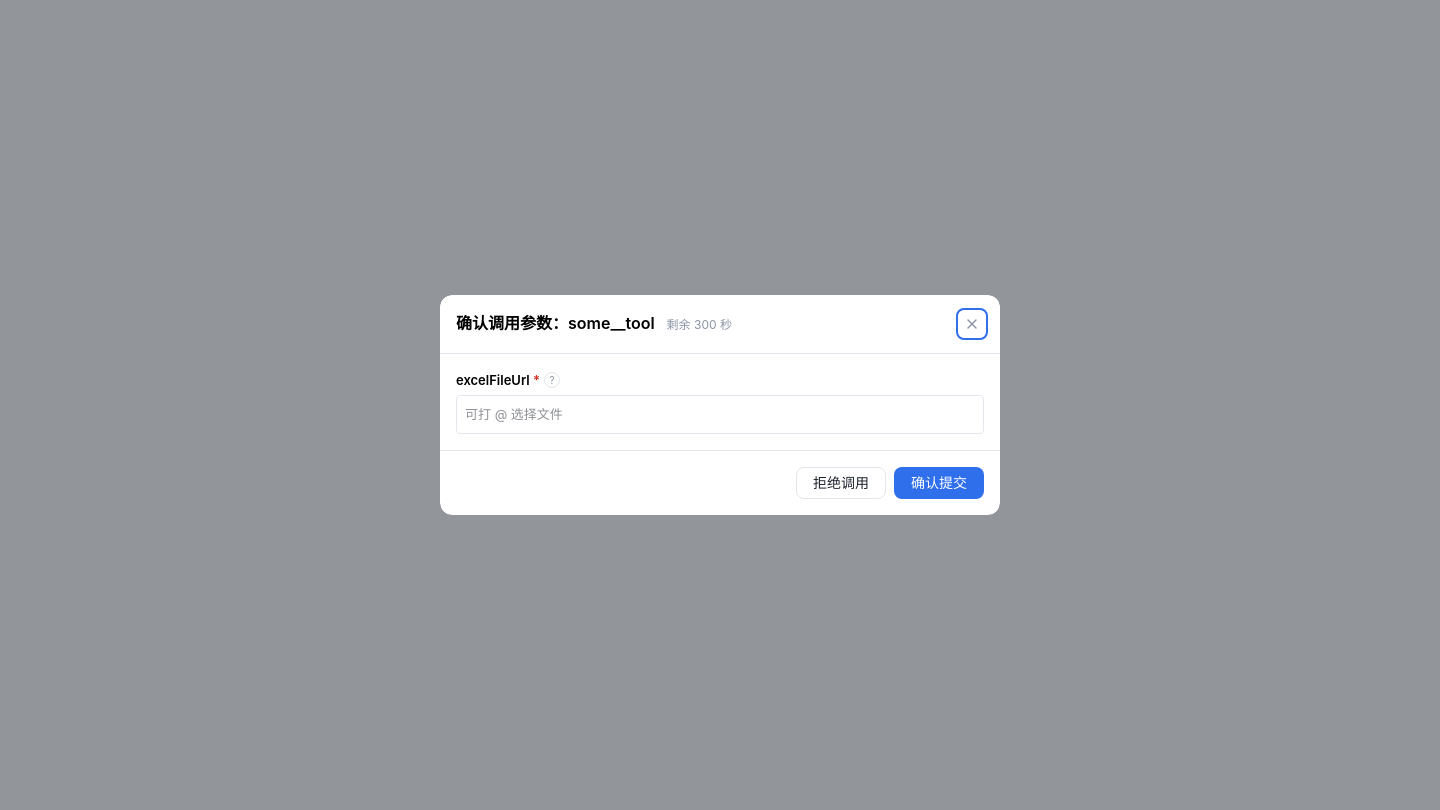
Test case: InteractionDialog —— @ 文件引用与结构化卡片 › 键盘导航：Enter 依次下钻空间/目录/文件并完成插入
Step 1. Type "@" into the field labelled "excelFileUrl" → (720, 414), box left=456, top=395, right=984, bottom=434
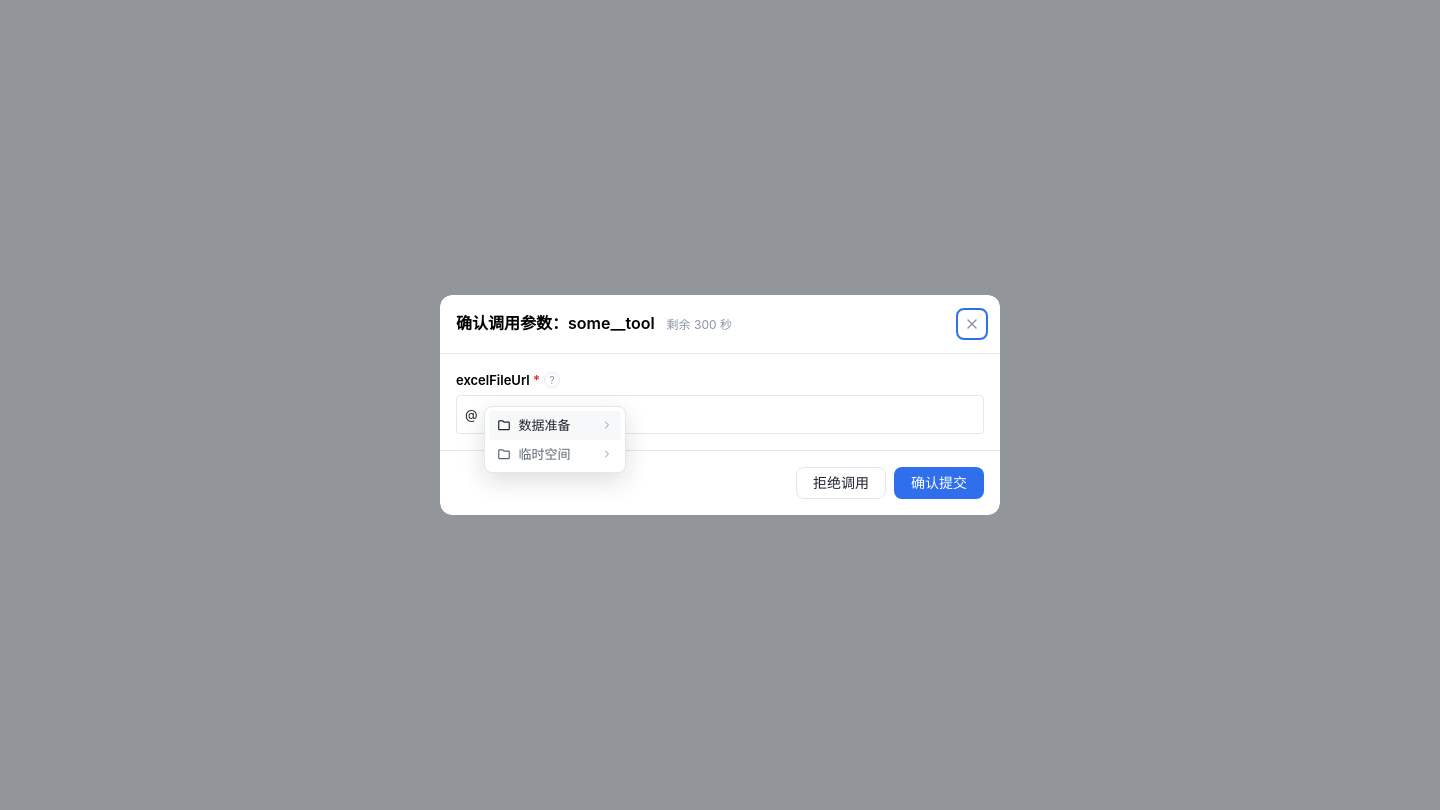
Step 2. Press Enter in the field labelled "excelFileUrl", box left=456, top=395, right=984, bottom=434
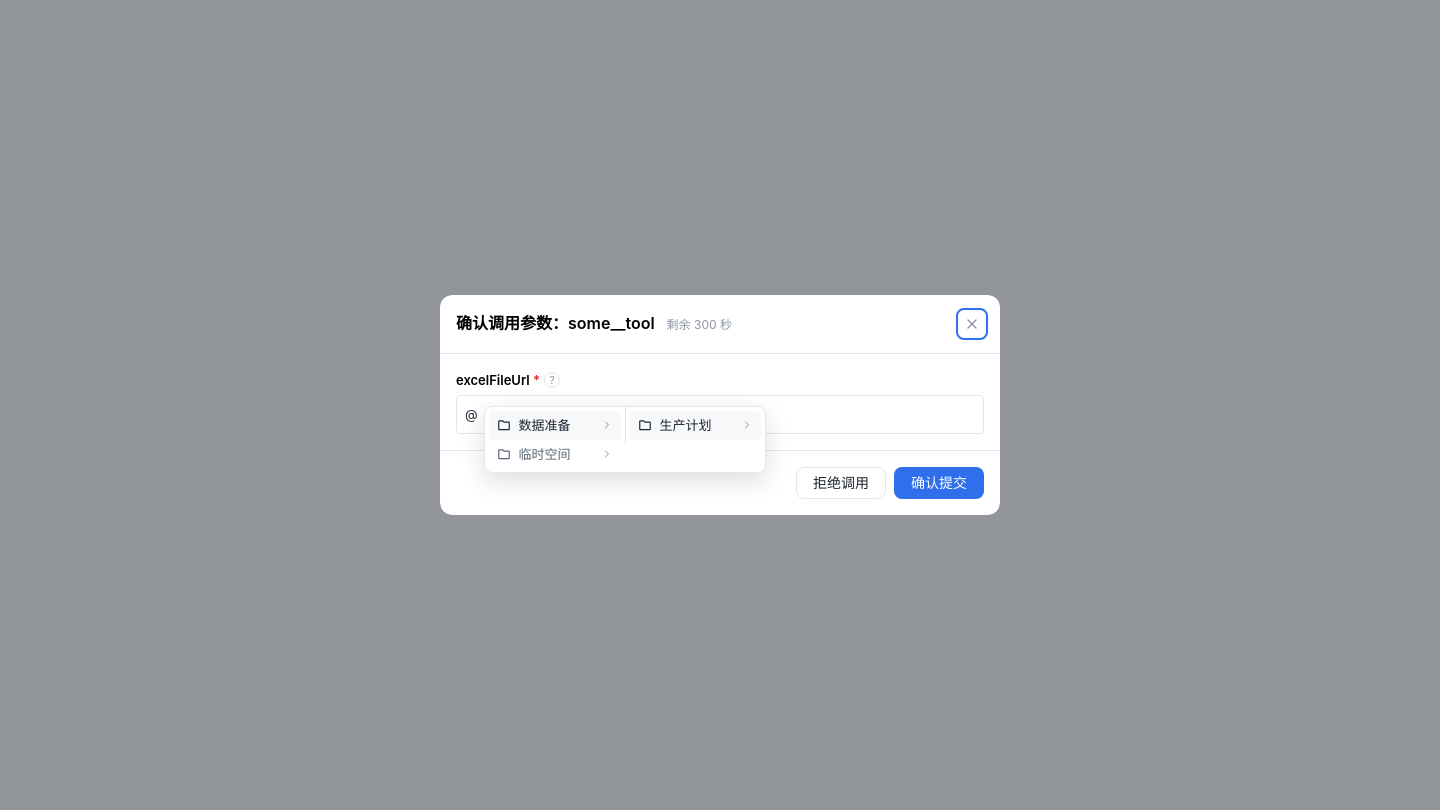
Step 3. Press Enter in the field labelled "excelFileUrl", box left=456, top=395, right=984, bottom=434
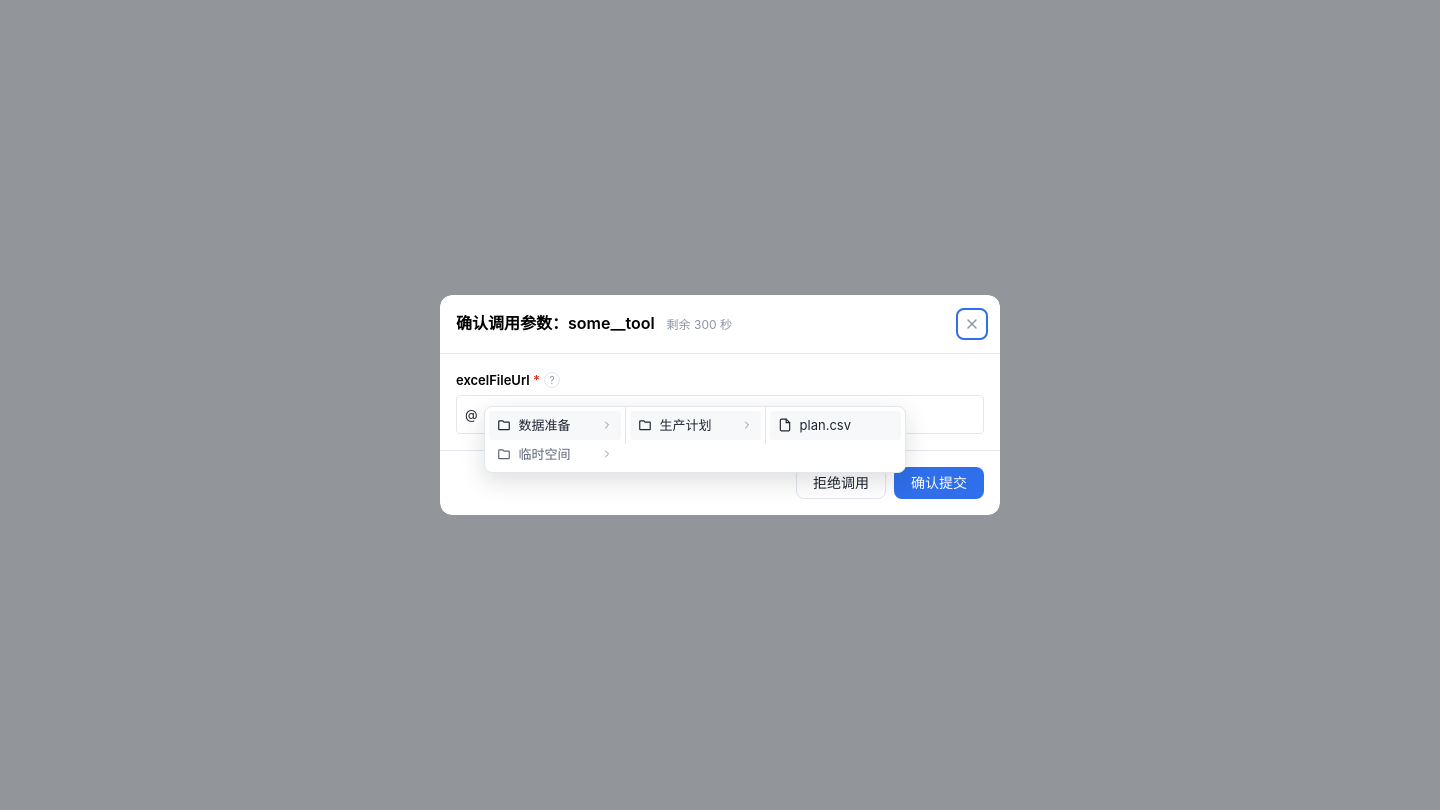
Step 4. Press Enter in the field labelled "excelFileUrl", box left=456, top=395, right=984, bottom=434
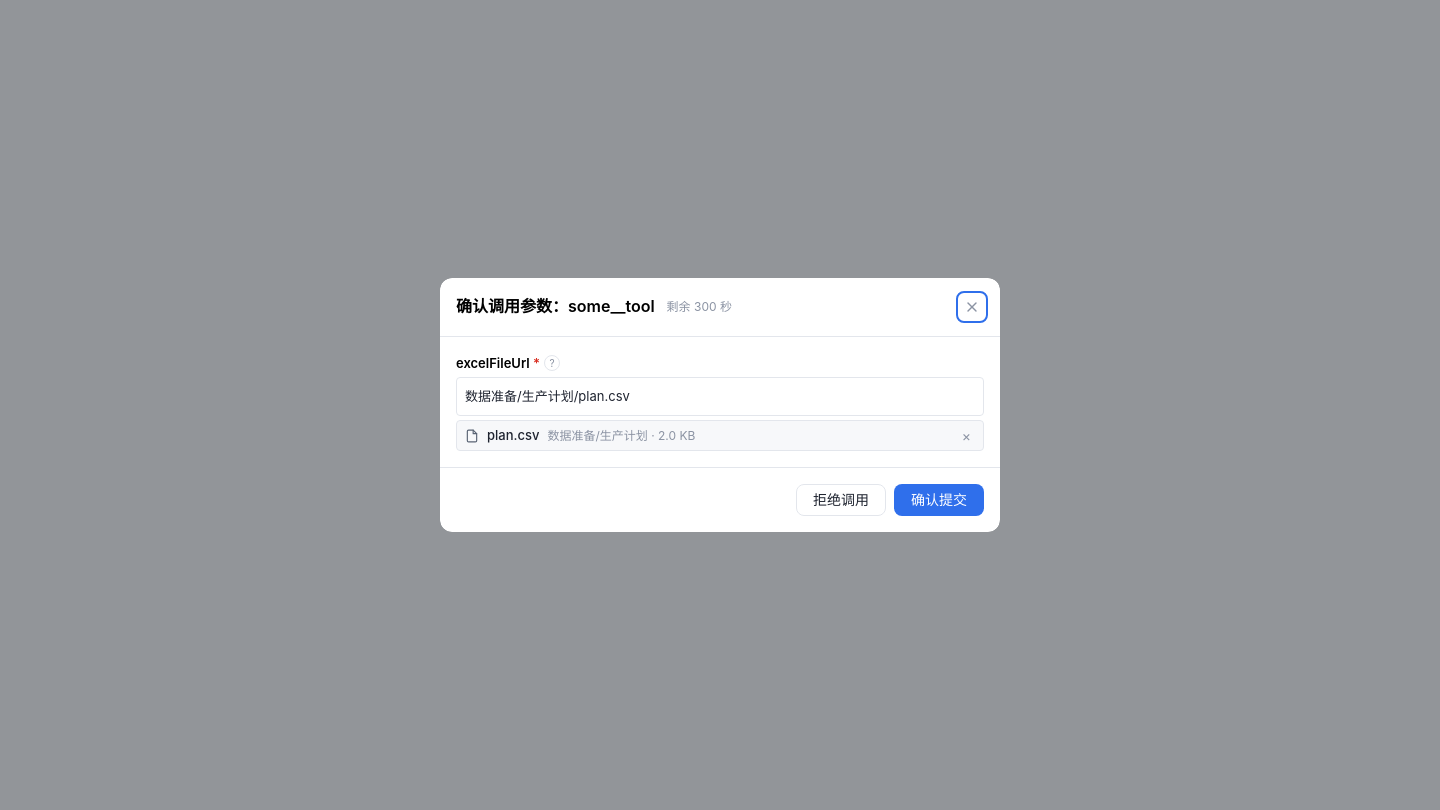
Expected: the field labelled "excelFileUrl" holds "数据准备/生产计划/plan.csv", left=456, top=377, right=984, bottom=416
